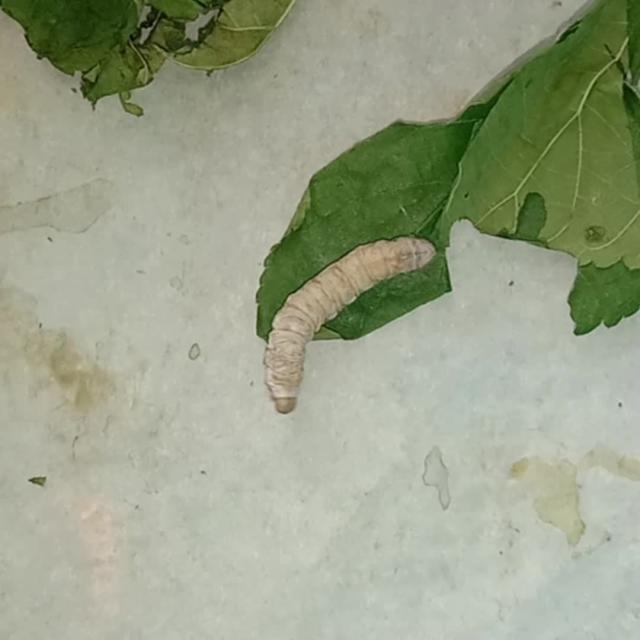Grasserie: (240, 182, 457, 468)
